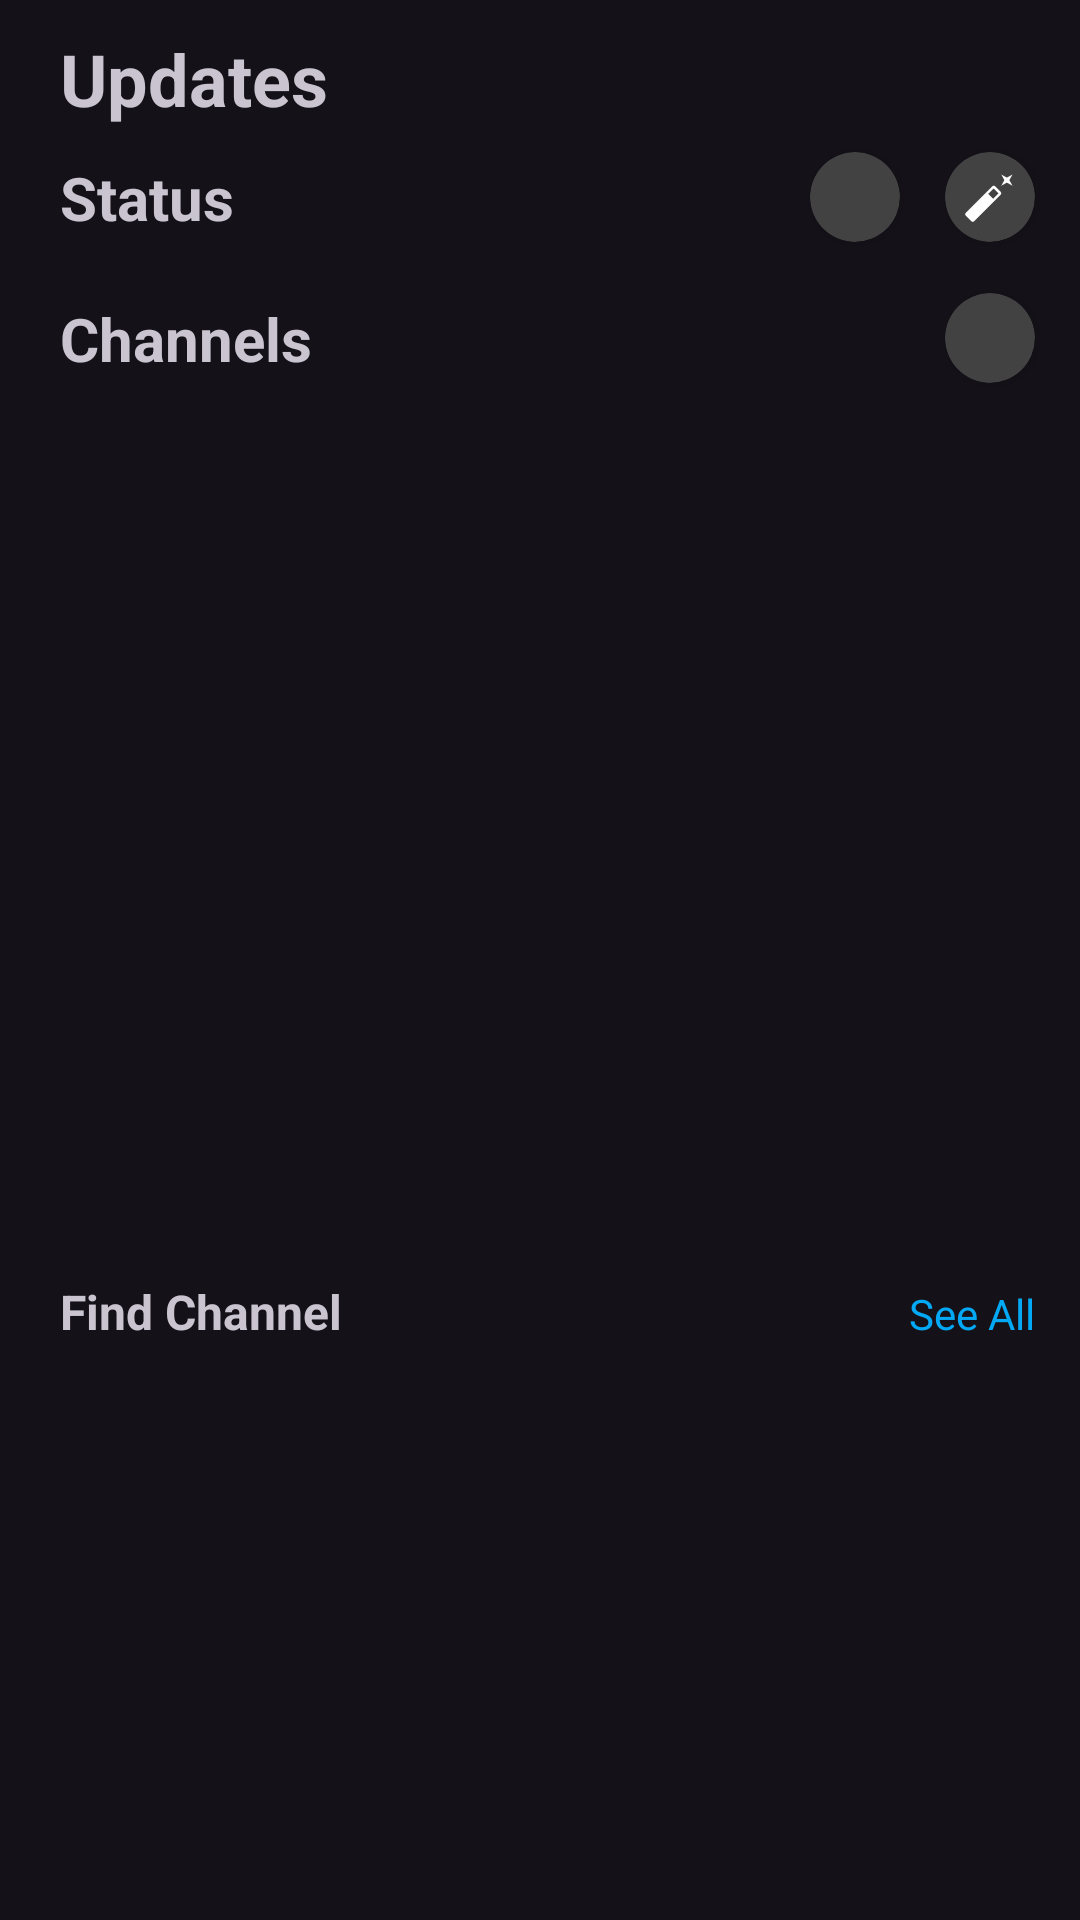

Locate icon controls on the screen. Image size 1080*1920, boxes as (left=x1, top=y1, right=x2, bottom=y2).
auto fix: (left=965, top=174, right=1013, bottom=222)
